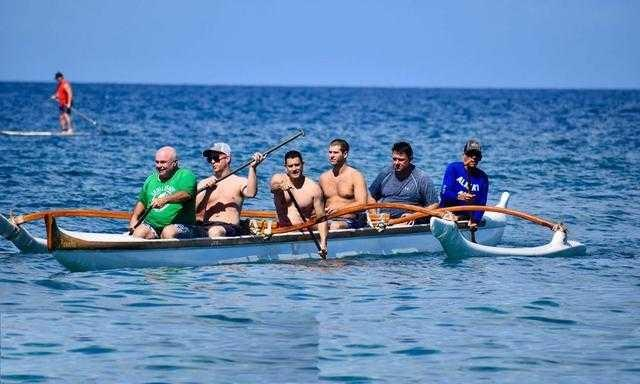kayak: (4, 200, 590, 268), (431, 210, 586, 259)
